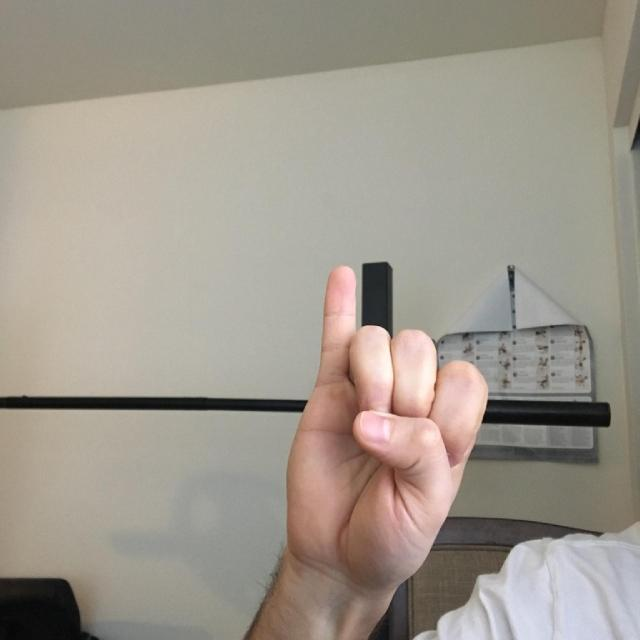I: (234, 212, 514, 584)
